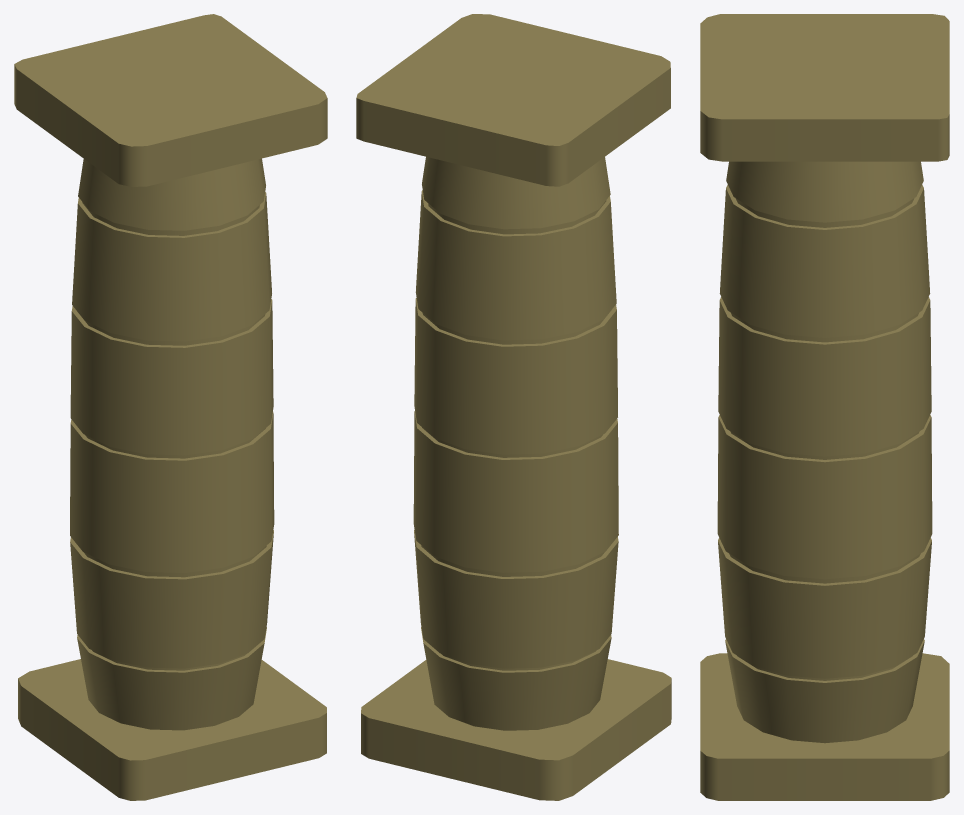
File: Coluna.fbx
3 views of the same model, side by side, from view 1: azimuth 30°, elevation 25°; view 2: azimuth 150°, elevation 25°; view 3: azimuth 270°, elevation 25° (orthographic). The views are drawn at different scales.
Parts seen in each view (by area): view 1: Coluna; view 2: Coluna; view 3: Coluna.
Boxes of the visible parts, x1,y1,x2,y2 form: Coluna: (14,14,327,800); Coluna: (356,14,671,800); Coluna: (700,14,949,800).
Bounding box in the file's own units: 6.28 × 18.94 × 6.28.
